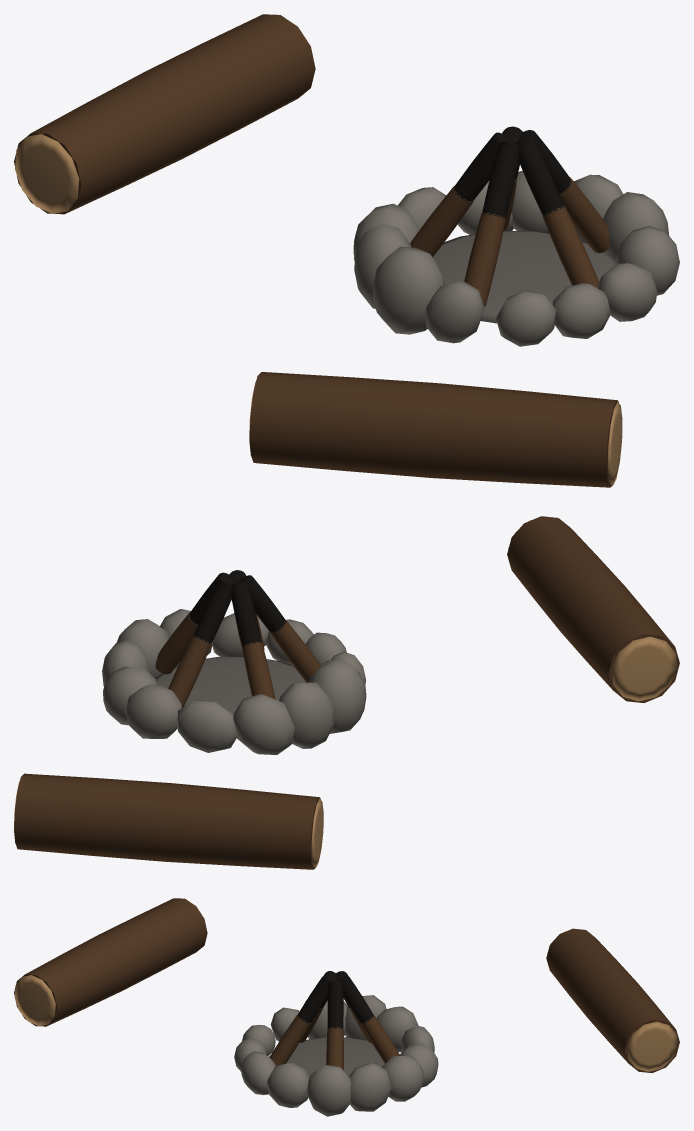
Rendered from campfire.obj.
The picture shows the model from 3 angles, top to bottom: view 1: azimuth 30°, elevation 25°; view 2: azimuth 150°, elevation 25°; view 3: azimuth 270°, elevation 25°; orthographic projection. The views are drawn at different scales.
Visible parts, largest first — view 1: part47, part44, part13, part10, part46, part11, part1, part2, part12, part0, part3, part9 (+14 smaller); view 2: part44, part47, part13, part48, part8, part9, part10, part7, part6, part5, part26, part3 (+11 smaller); view 3: part47, part44, part13, part45, part3, part4, part49, part2, part5, part1, part8, part14 (+12 smaller).
Part boxes in pixels (x1,y1,x2,y2): part47: (249,372,618,487); part44: (14,14,315,214); part13: (433,231,616,323); part10: (372,246,444,334); part46: (15,134,79,213); part11: (426,281,484,343); part1: (597,263,657,321); part2: (616,226,679,295); part12: (496,290,556,346); part0: (552,283,610,338); part3: (603,192,669,260); part9: (354,223,410,308); part44: (14,773,320,869); part47: (507,516,679,702); part13: (155,656,305,715); part48: (611,636,677,701); part8: (233,694,294,754); part9: (279,682,334,748); part10: (309,658,366,733); part7: (177,700,237,752); part6: (125,684,181,738); part5: (103,666,157,725); part26: (168,636,211,707); part3: (116,619,168,677); part47: (14,898,207,1026); part44: (546,928,679,1072); part13: (269,1037,399,1077); part45: (627,1021,677,1071); part3: (306,1065,350,1116); part4: (349,1063,391,1111); part49: (14,975,55,1026); part2: (266,1062,309,1107); part5: (382,1055,423,1101); part1: (241,1051,275,1095); part8: (377,1006,418,1052); part14: (269,1015,310,1065).
Size of the model in its own units: 2.61 by 0.7565 by 4.3.
